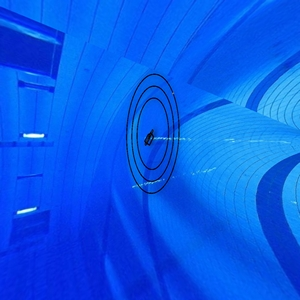circle: (123, 70, 186, 198)
submarine: (143, 127, 158, 152)
